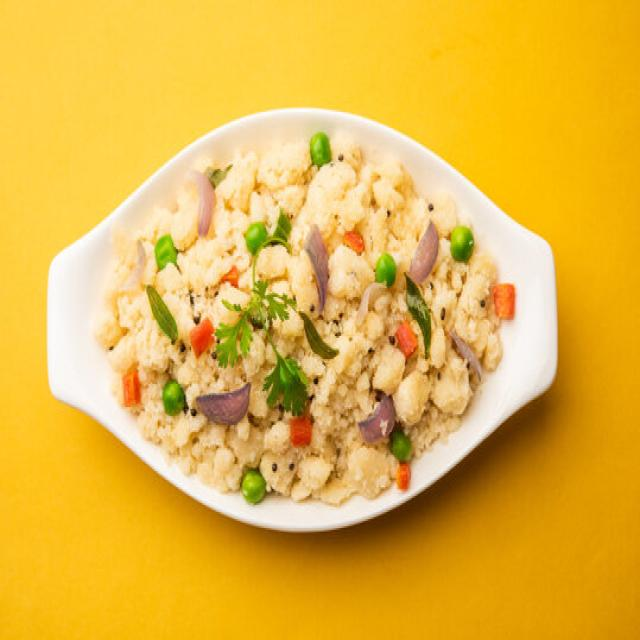UPMA: (96, 133, 521, 519)
